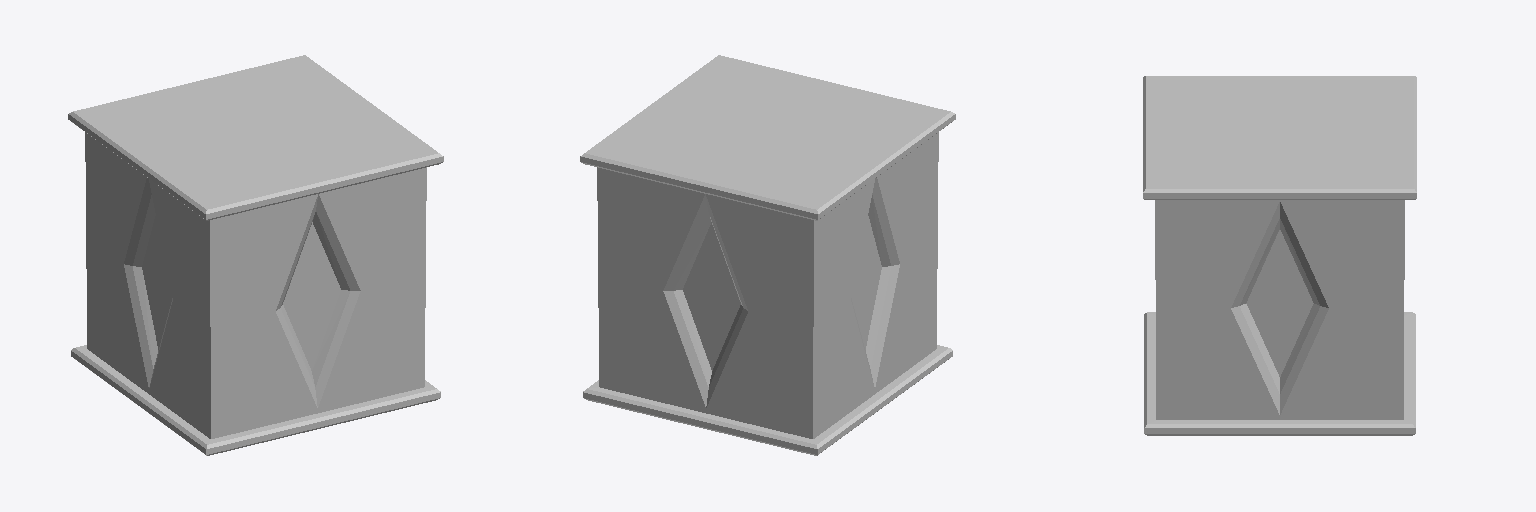
Rendered from pillar2.obj.
3 views of the same model, side by side, from view 1: azimuth 30°, elevation 25°; view 2: azimuth 150°, elevation 25°; view 3: azimuth 270°, elevation 25° (orthographic).
Parts seen in each view (by area): view 1: pCube2; view 2: pCube2; view 3: pCube2.
Boxes of the visible parts, <box> form: pCube2: <box>68,55,443,455</box>; pCube2: <box>580,55,955,455</box>; pCube2: <box>1143,76,1416,435</box>.
Size of the model in its own units: 1.05 by 1.05 by 1.05.